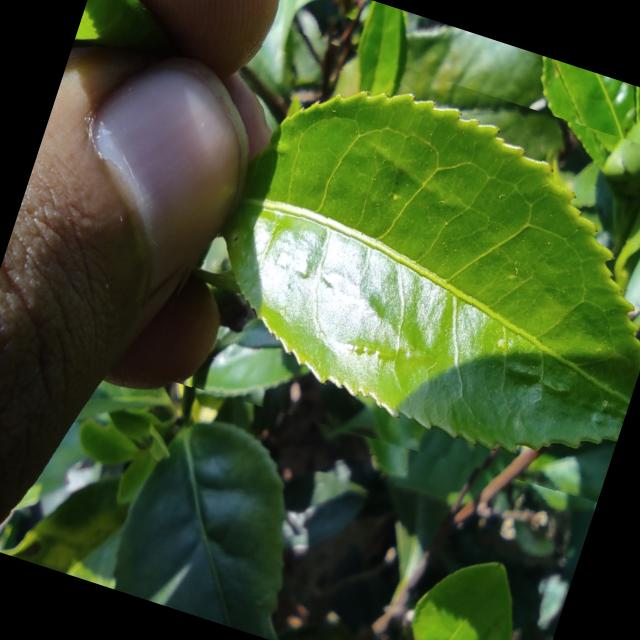Category C 4-7 days: (144, 20, 640, 518)
